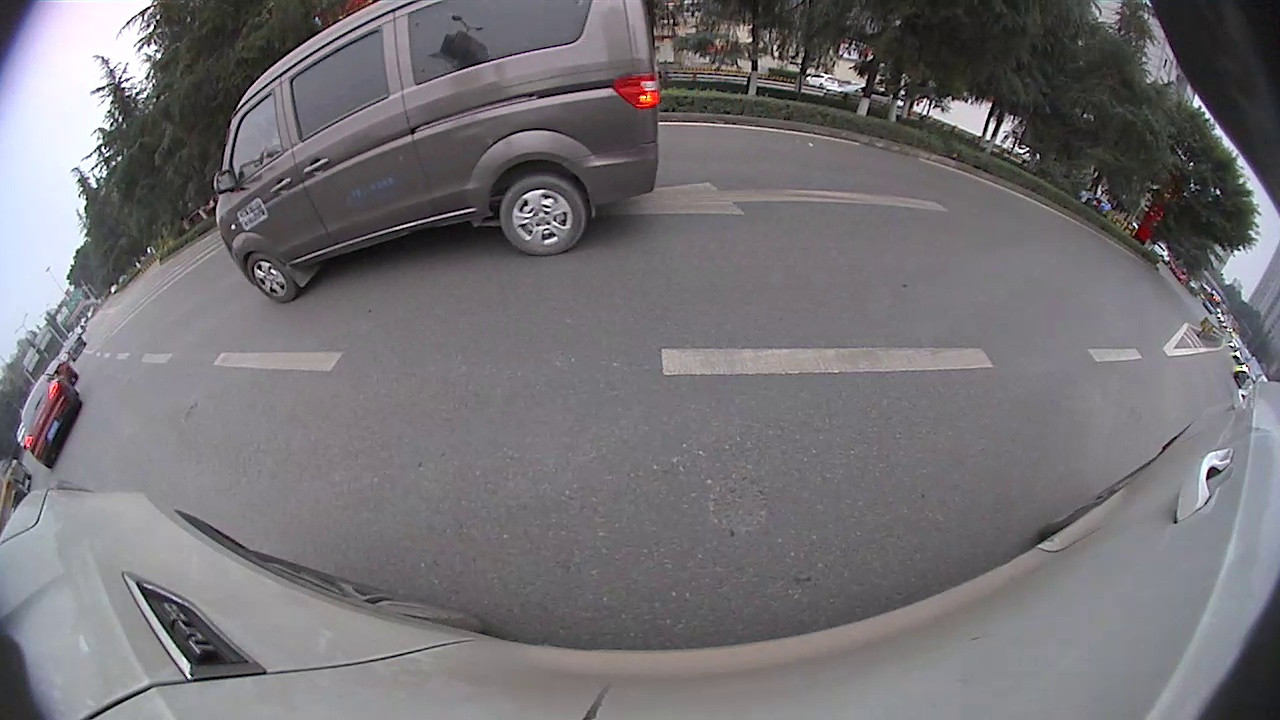car: (214, 2, 662, 302), (20, 380, 86, 471)
front: (245, 248, 296, 305)
rear: (499, 174, 591, 260)
